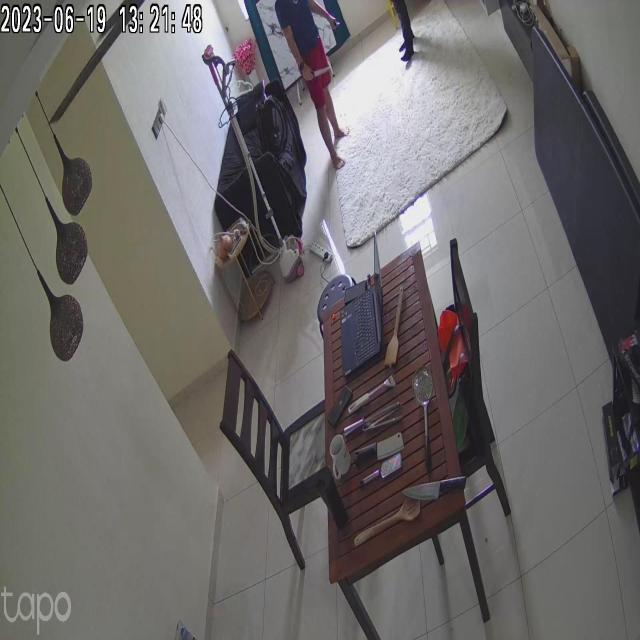Knife: (395, 475, 471, 503), (310, 62, 337, 86)
